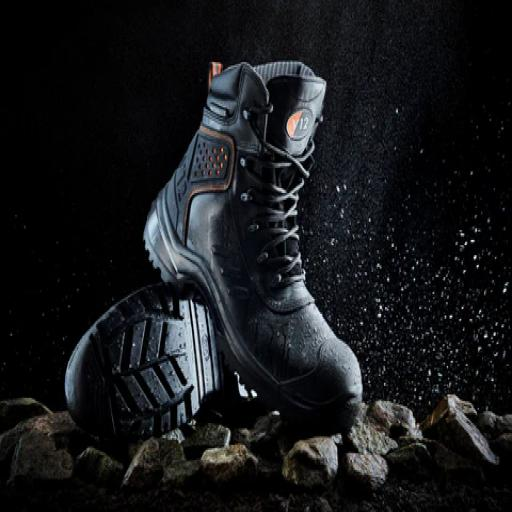safety_boots: (199, 20, 374, 432), (56, 287, 210, 439)
